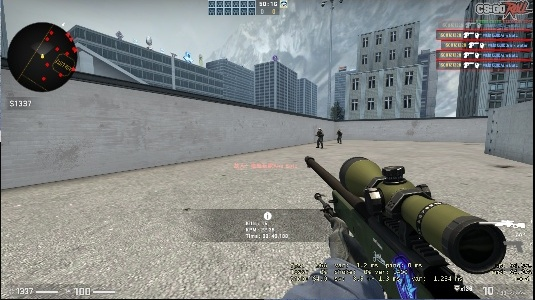body: (315, 128, 324, 148), (336, 129, 343, 144)
head: (317, 128, 322, 132), (338, 129, 341, 132)
